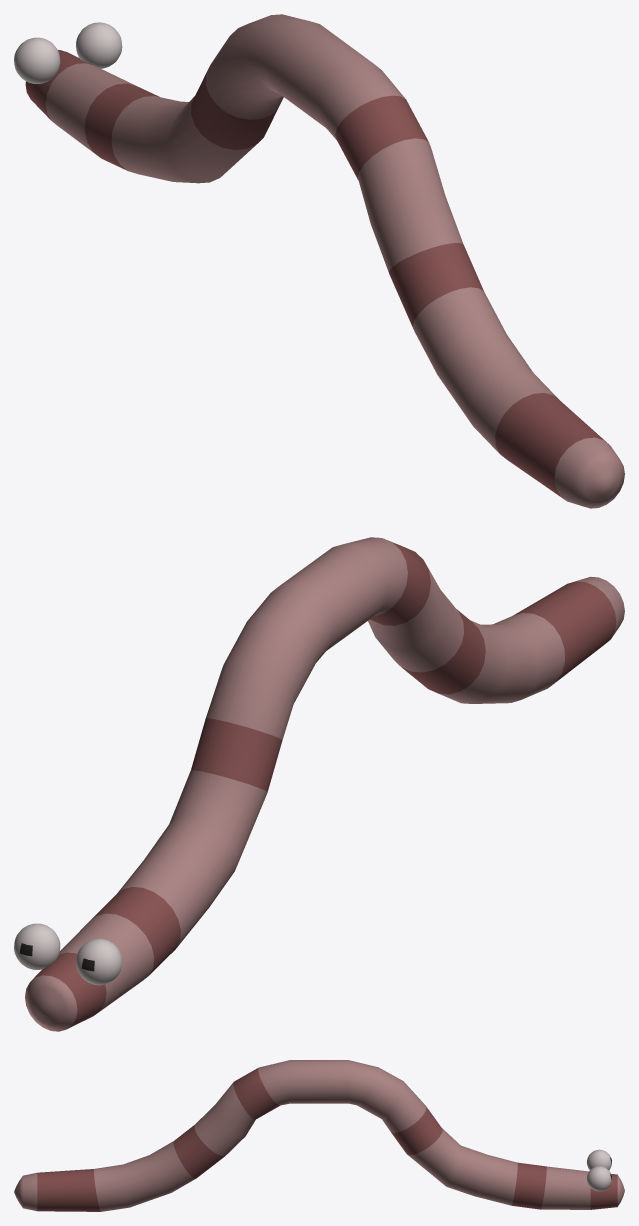
The model's file is worm.fbx.
The picture shows the model from 3 angles, top to bottom: view 1: azimuth 30°, elevation 25°; view 2: azimuth 150°, elevation 25°; view 3: azimuth 270°, elevation 25°; orthographic projection. The views are drawn at different scales.
Parts seen in each view (by area): view 1: pCylinder2; view 2: pCylinder2; view 3: pCylinder2.
Boxes of the visible parts, left/top/right/bottom form: pCylinder2: left=14, top=14, right=624, bottom=508; pCylinder2: left=14, top=537, right=624, bottom=1031; pCylinder2: left=14, top=1060, right=624, bottom=1211.
Size of the model in its own units: 0.6515 by 1.66 by 6.2.
